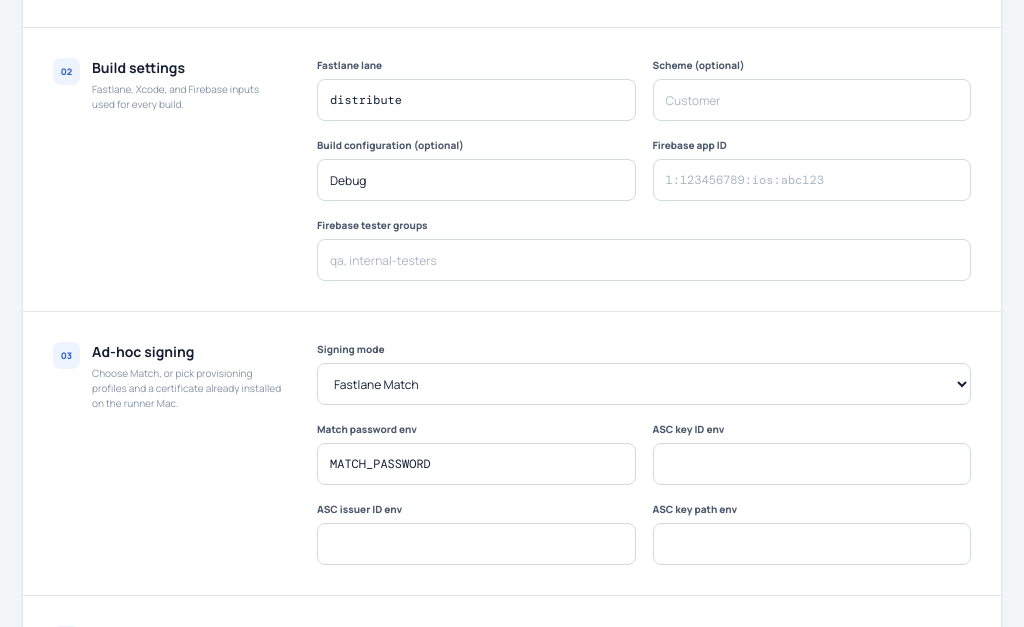
Scenario: ProjectFormPage manual signing › reports import errors without changing the selection
The width and height of the screenshot is (1024, 627).
(page scrolled)
Select "Manual signing" in the dropdown labelled "Signing mode": (644, 384) left=317, top=364, right=971, bottom=406
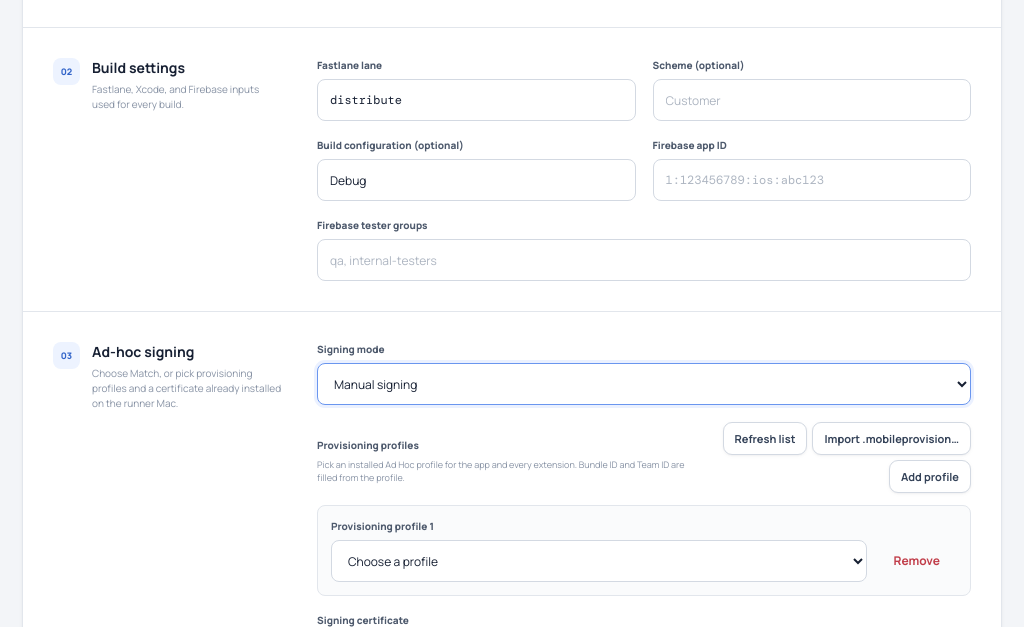
Select "com.example.app — Example App AdHoc (AB12CDEFGH, expires Aug 17, 2027)" in the dropdown labelled "Provisioning profile 1": (599, 562) left=331, top=540, right=866, bottom=582
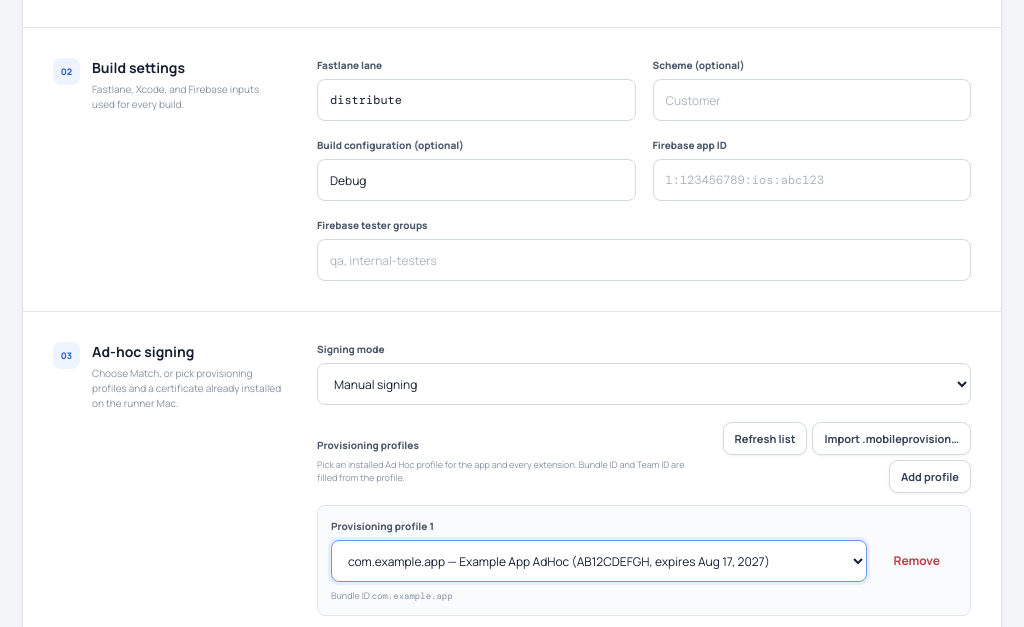
Click the button "Import .mobileprovision…": (892, 439) left=812, top=422, right=971, bottom=456
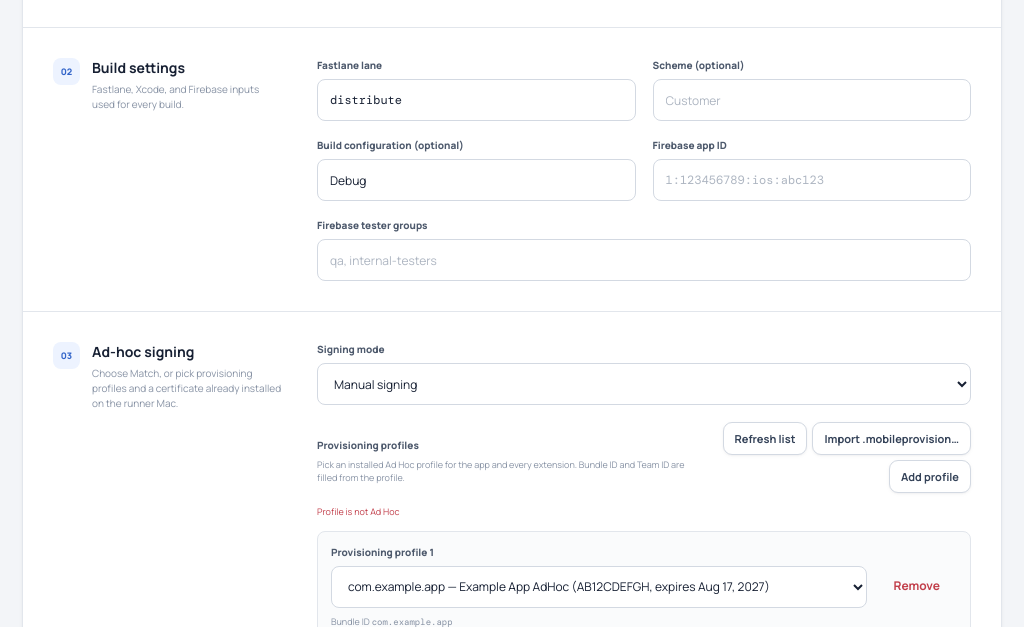
Expected: the message reads "Profile is not Ad Hoc", left=317, top=506, right=400, bottom=518
